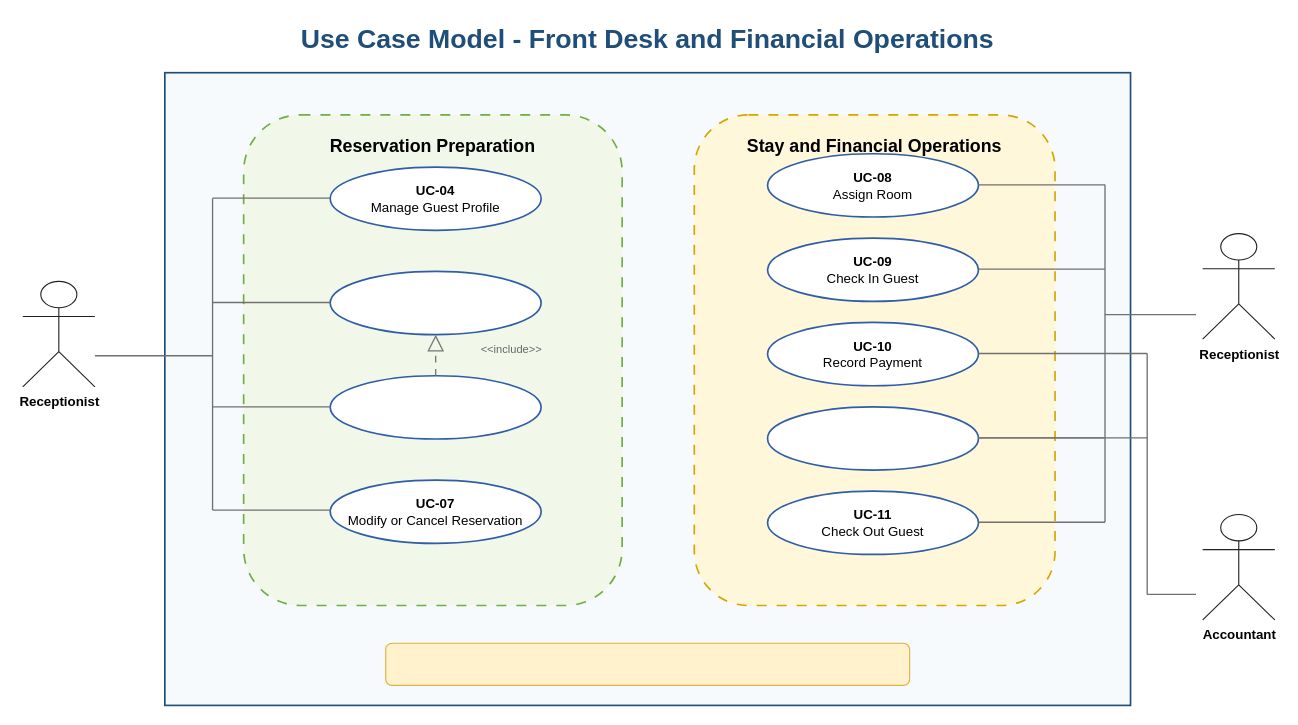
The diagram is 1298 pixels wide and 725 high, and some of its shapes have lost their labels. The centre of each missing label's shape, as x and y in pixels:
"The Receptionist actor is repeated only to keep associations short and readable." goes at (x=647, y=663).
"UC-05 Search Room Availability" goes at (x=435, y=302).
"UC-06 Create Reservation" goes at (x=435, y=406).
"UC-17 Record Refund or Adjustment" goes at (x=872, y=437).
